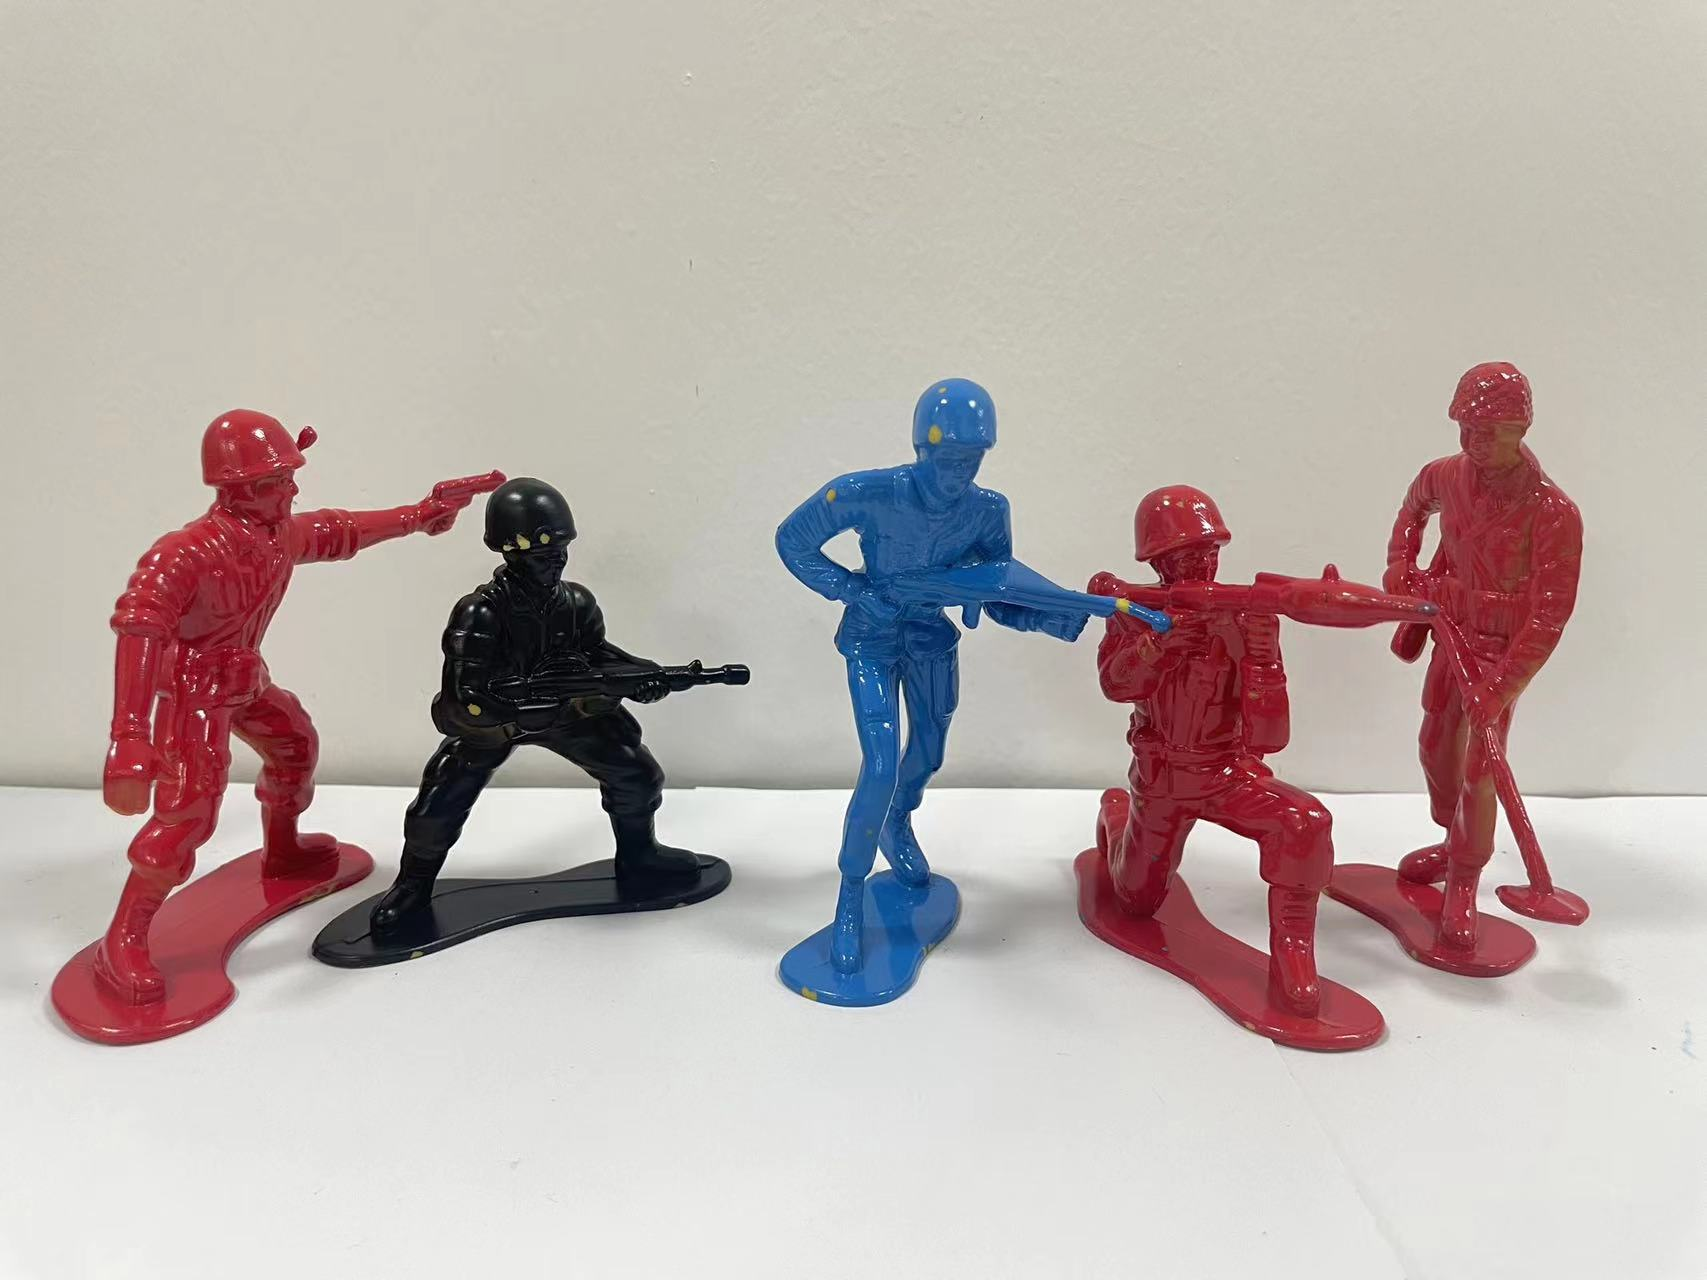black: (406, 445, 766, 975)
blue: (749, 307, 1062, 1043)
red: (40, 364, 423, 1074), (1323, 325, 1663, 1050), (1069, 463, 1401, 1111)
